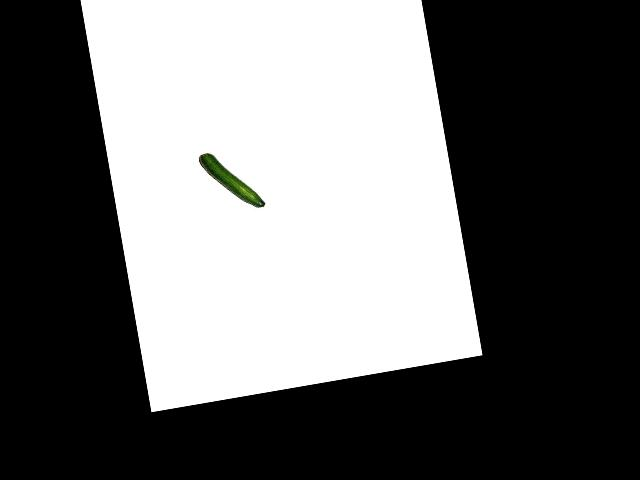cucumber: (198, 144, 265, 216)
